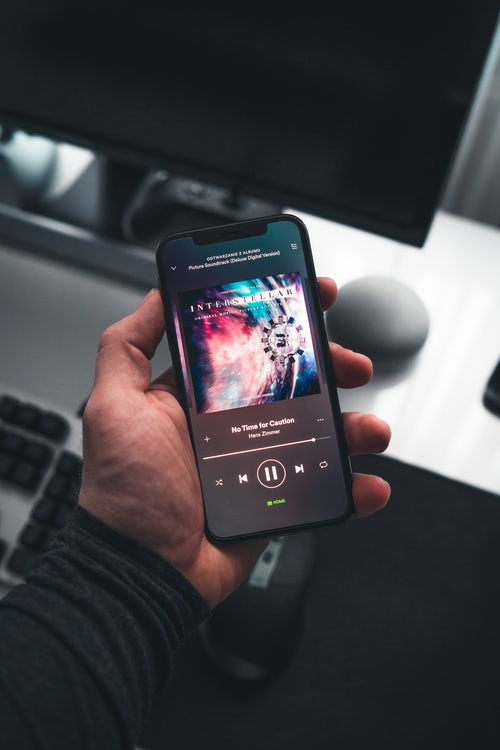phone: (150, 222, 360, 538)
